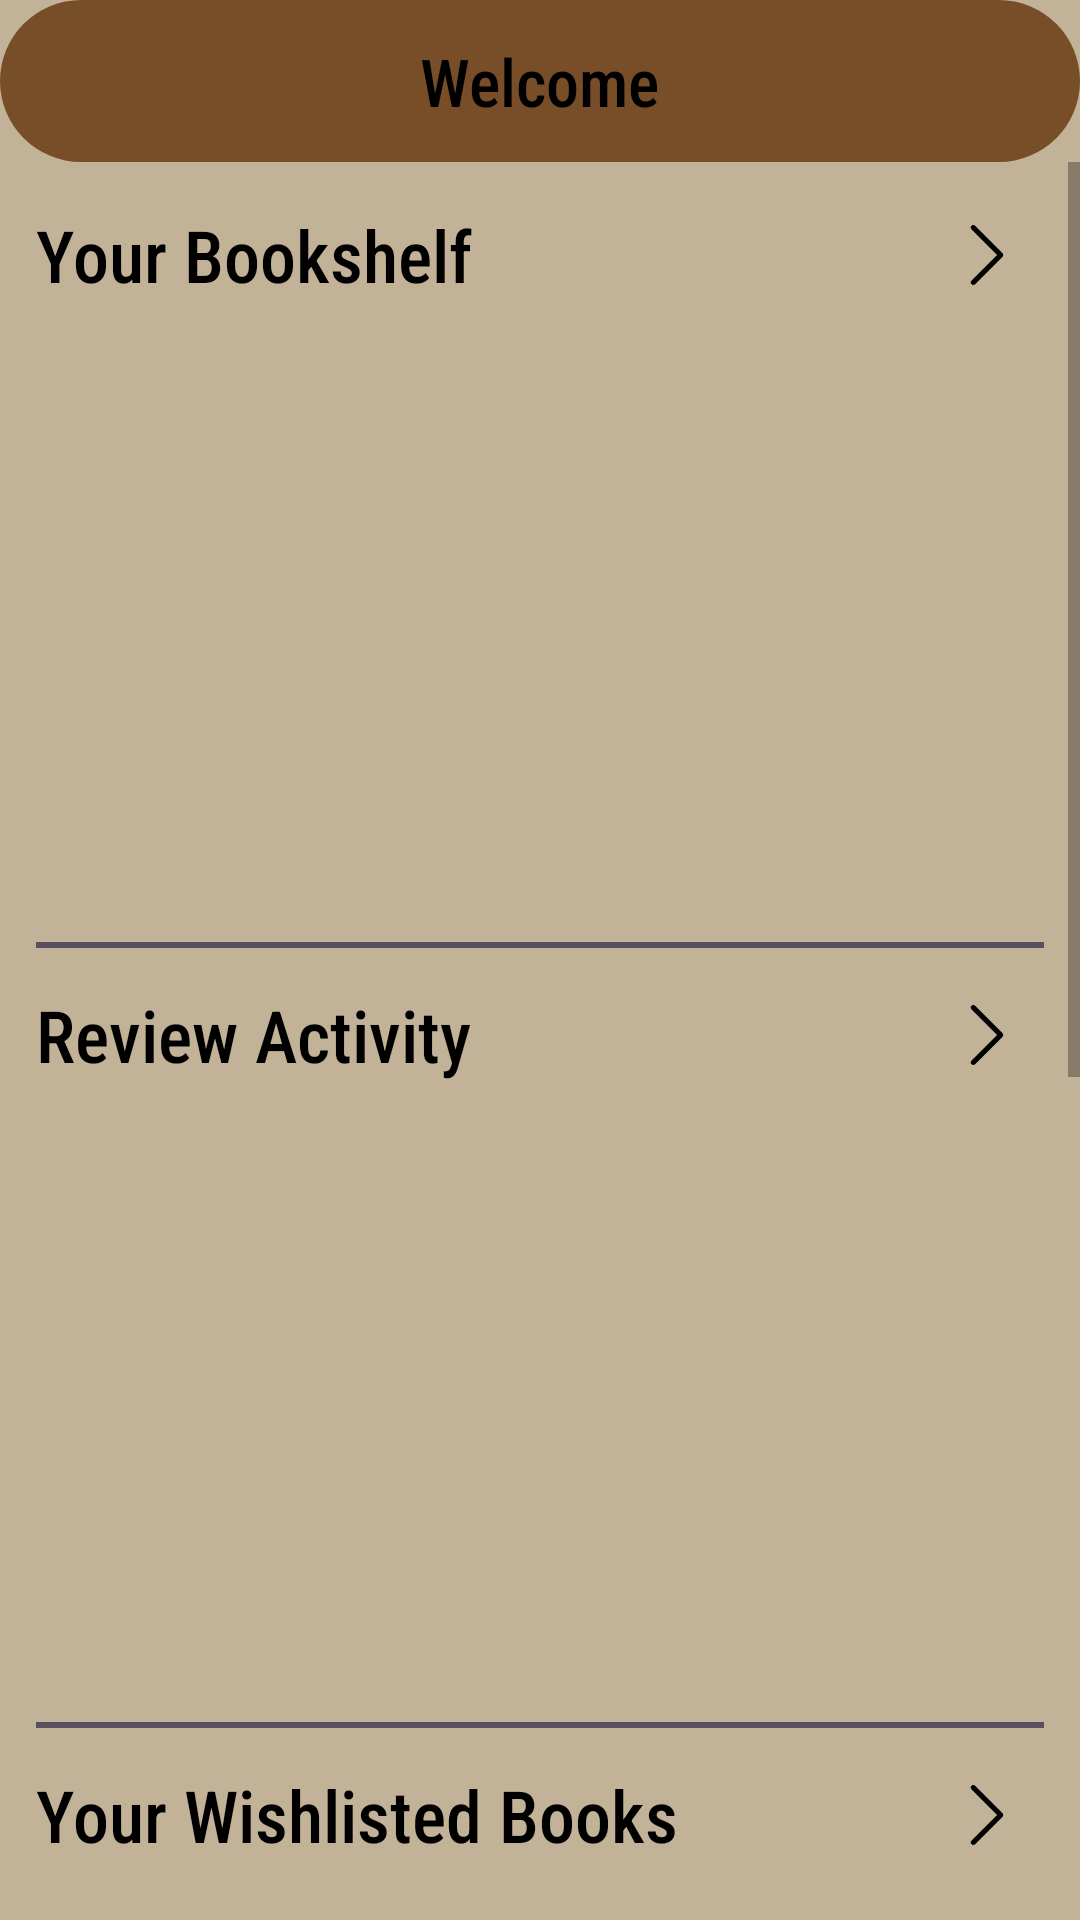

Where to tap for icons on this 1080*1920 app screen, as point (x, y):
arrow right: point (987, 255), point (987, 1035), point (987, 1815)
